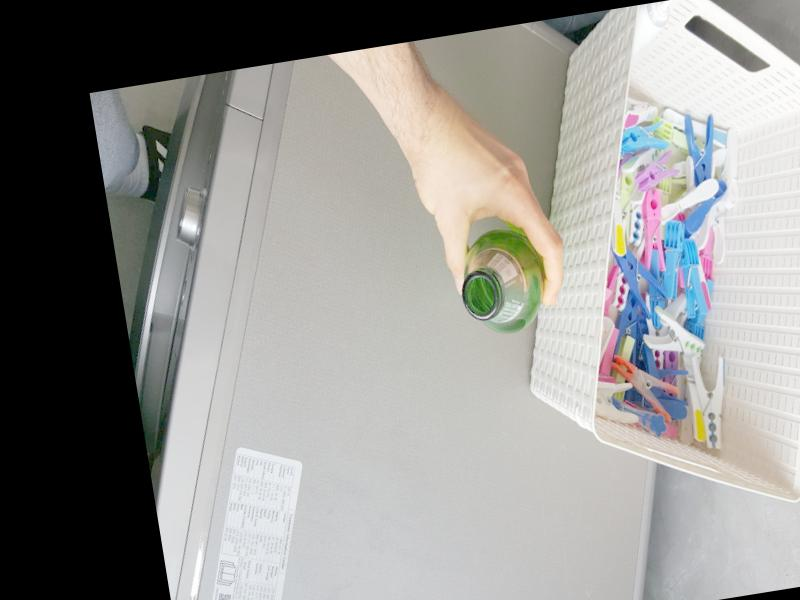Beer: (450, 221, 553, 340)
